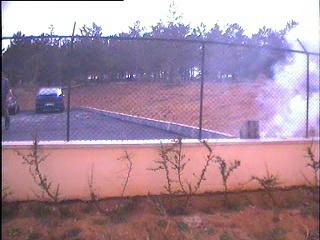smoke: (222, 17, 317, 139)
